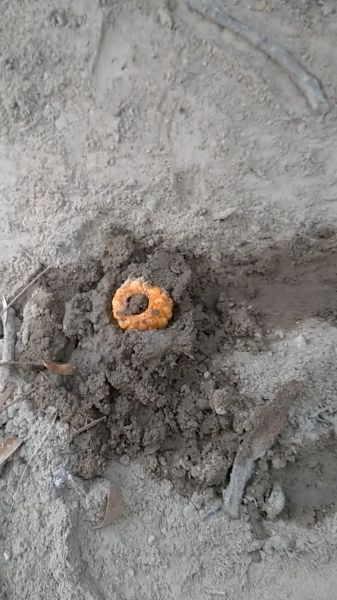eggs: (107, 274, 178, 333)
